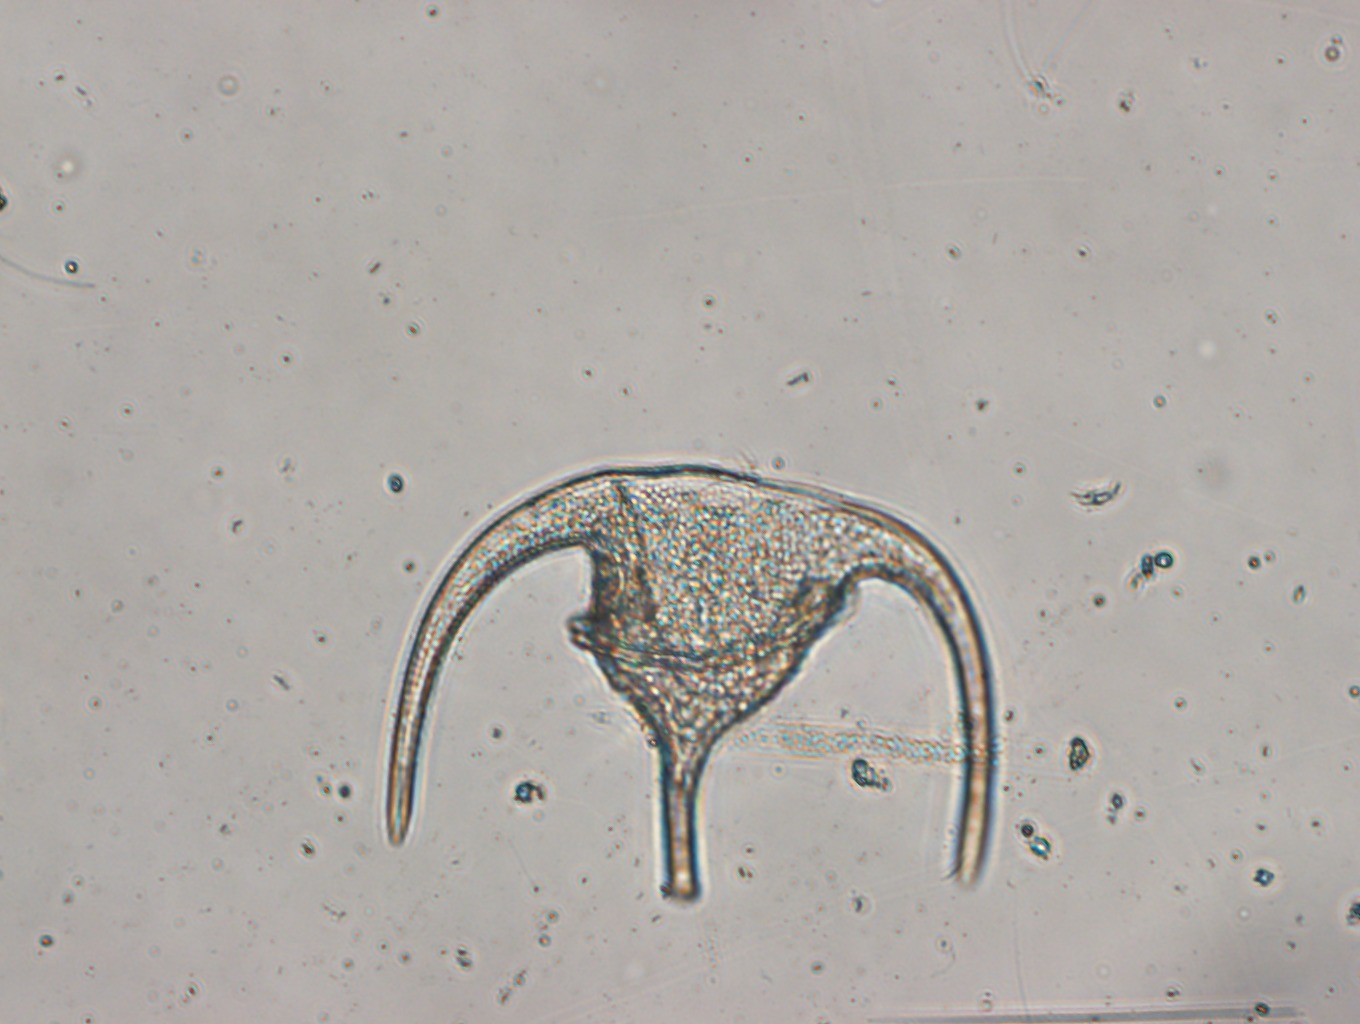ceratium tripos: (378, 447, 1002, 905)
